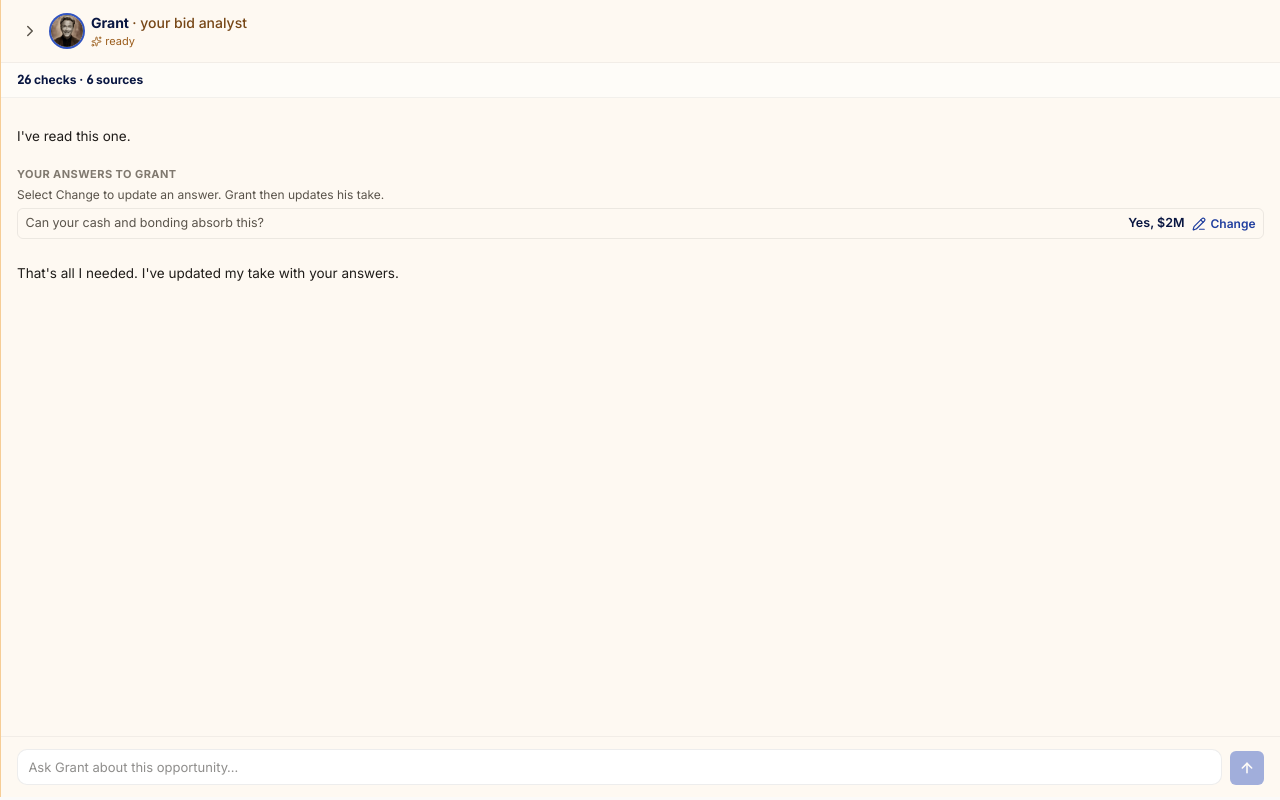
Test: GrantRail — answered questions are revisable (edit answers) › clicking a row opens the question for revision; Cancel keeps the answer
Click the button named "Change your answer to Can your cash and bonding absorb this?. Current answer: Yes, $2M". click: click(145, 223)
box: [17,208,1264,239]
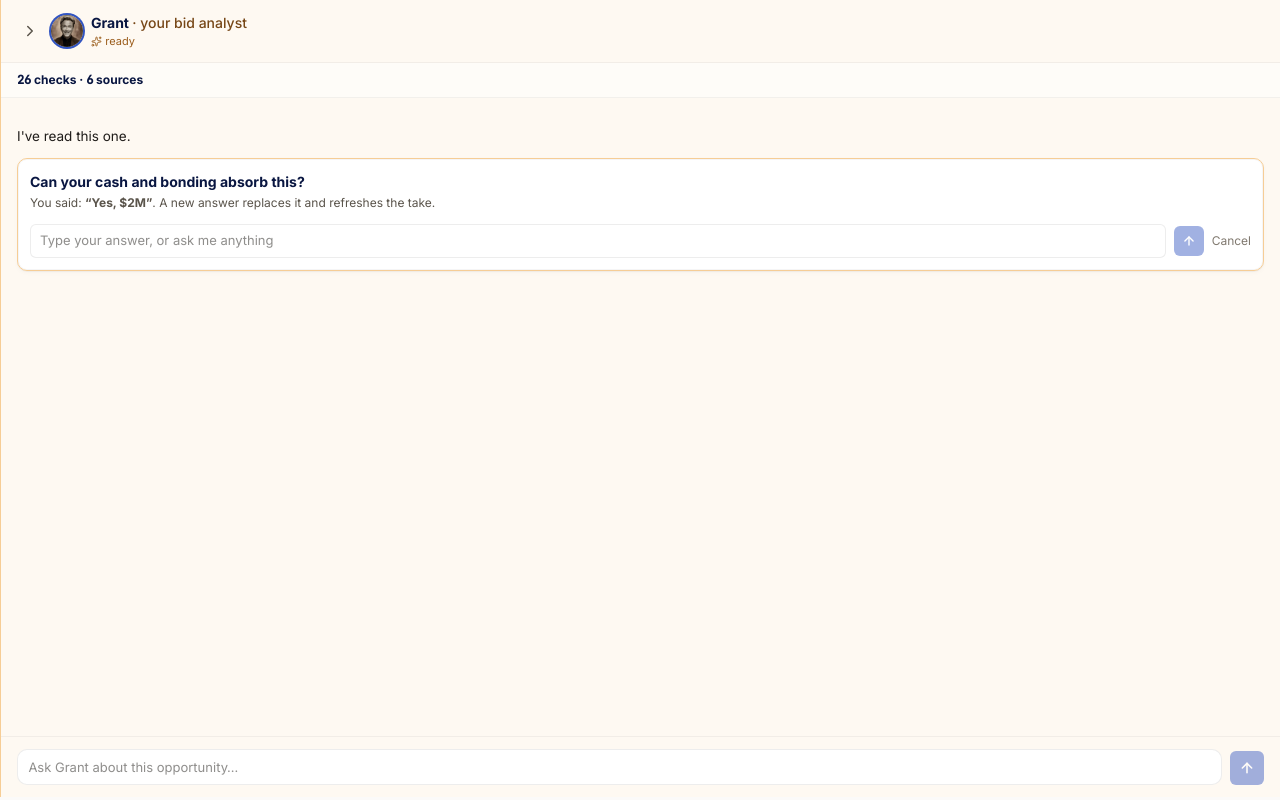
expect the text "“Yes, $2M”" is shown: met, box [85,195,152,210]
Click the button "Cancel". click: click(1231, 241)
box: [1212,232,1251,250]
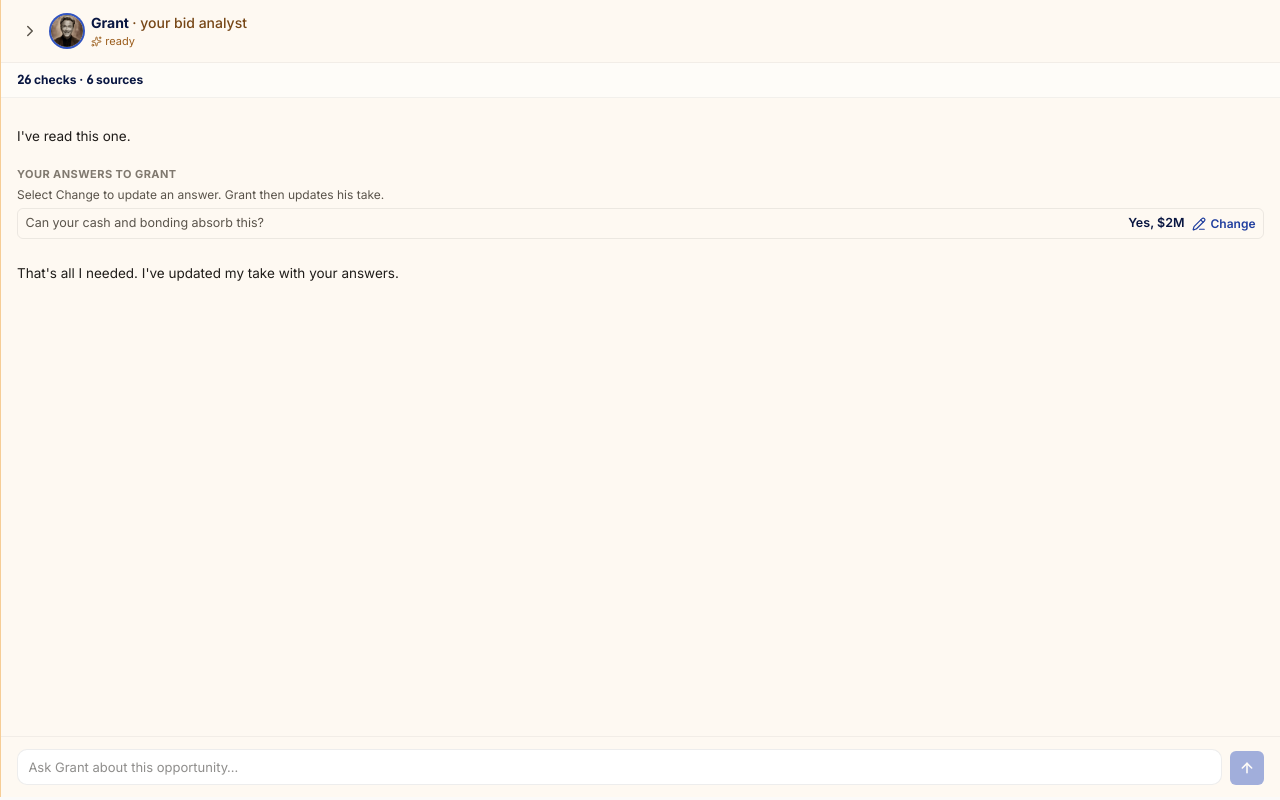
expect the text "Your answers to Grant" is shown: met, box [17,167,177,181]
